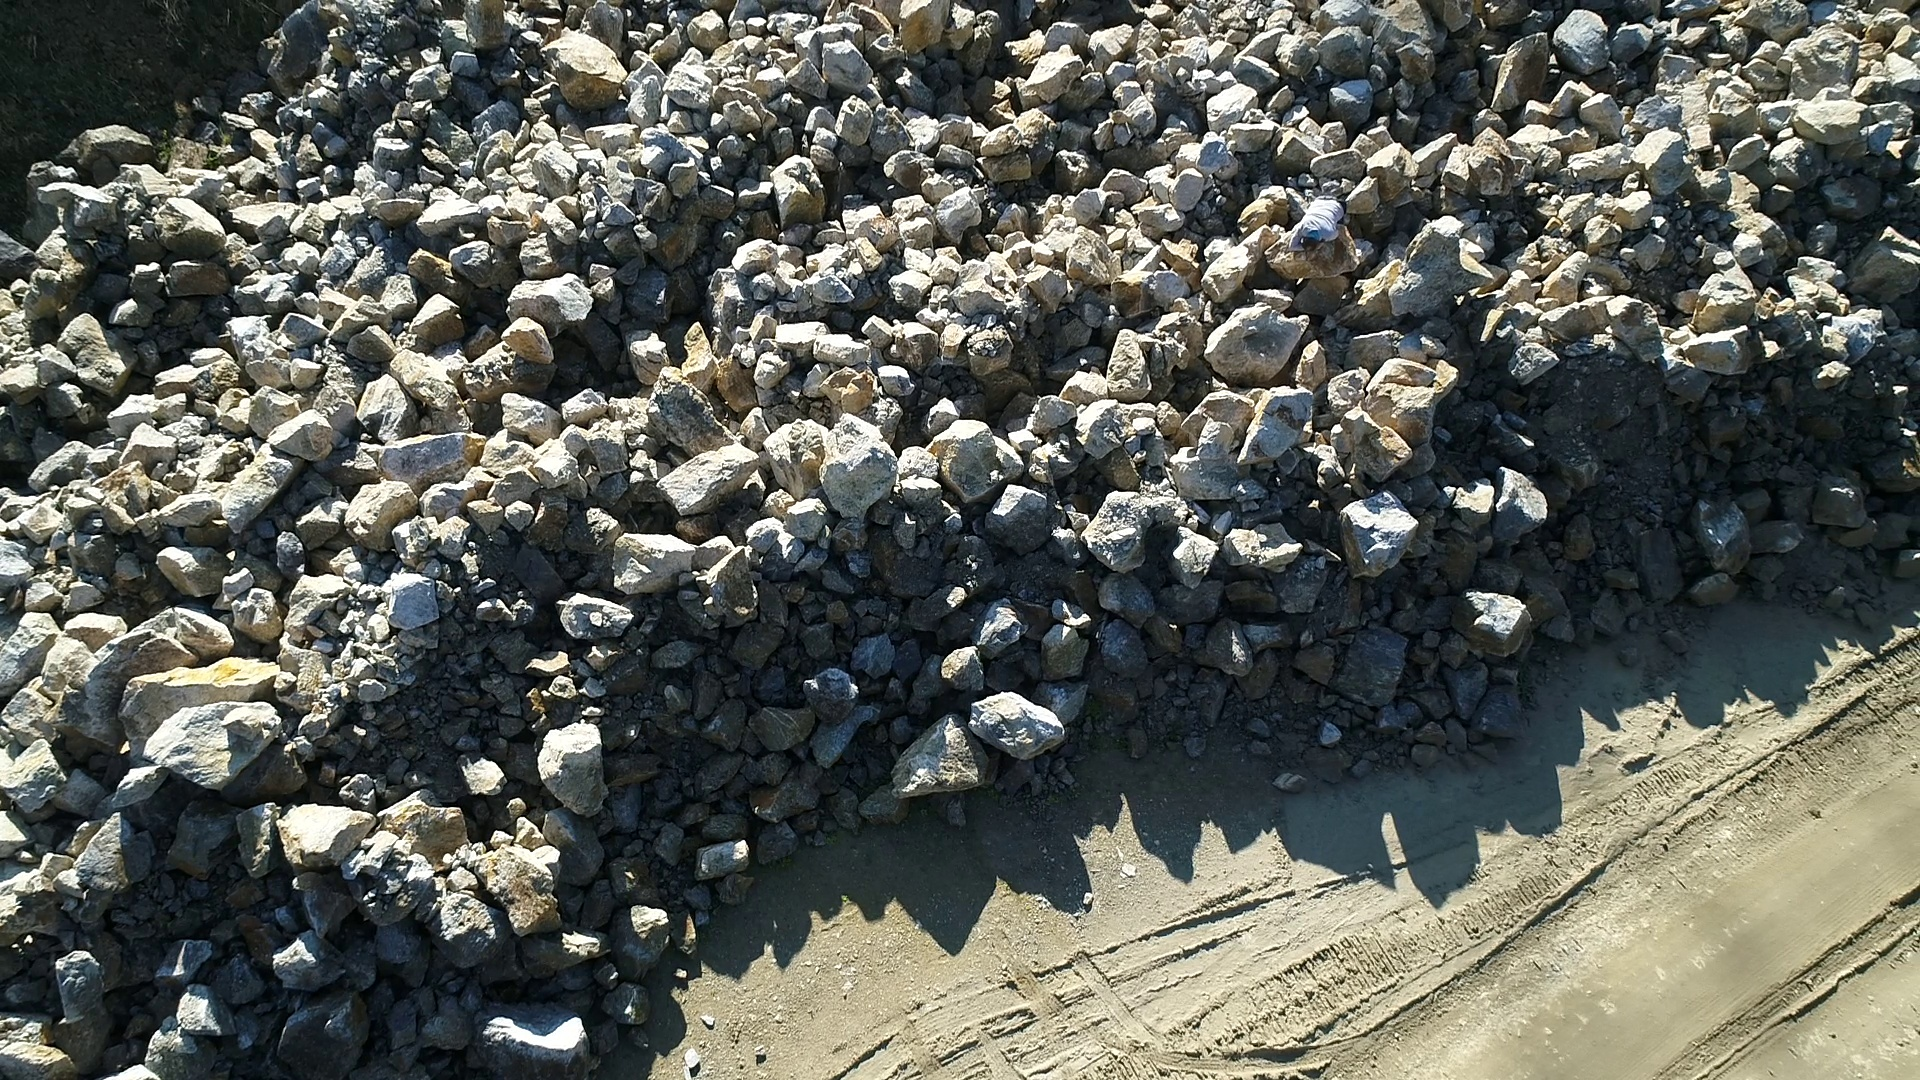person: (1286, 192, 1349, 254)
